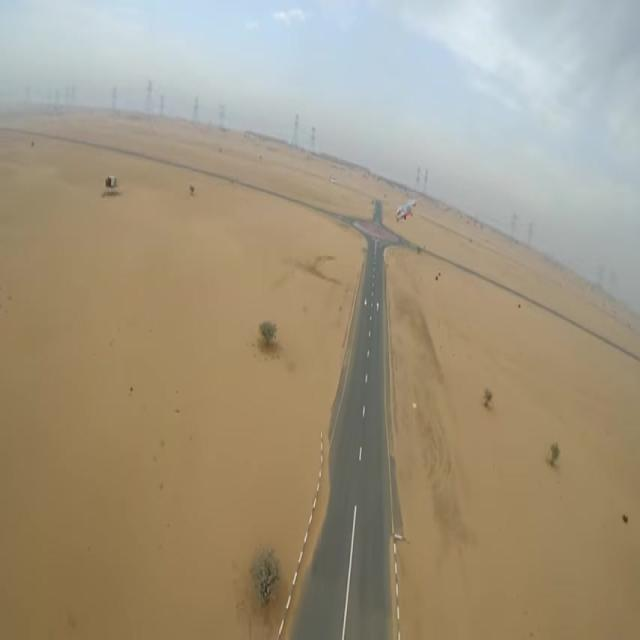iha: (394, 197, 418, 223)
